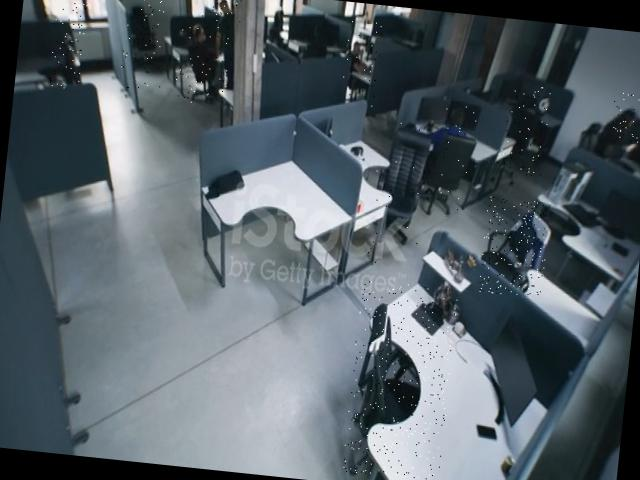empty chair: (341, 279, 459, 480), (364, 117, 435, 268), (478, 197, 551, 299), (495, 84, 551, 180), (119, 0, 172, 91), (49, 0, 88, 92)
occupiedchair: (172, 10, 236, 107), (432, 102, 481, 219), (341, 19, 382, 107)
